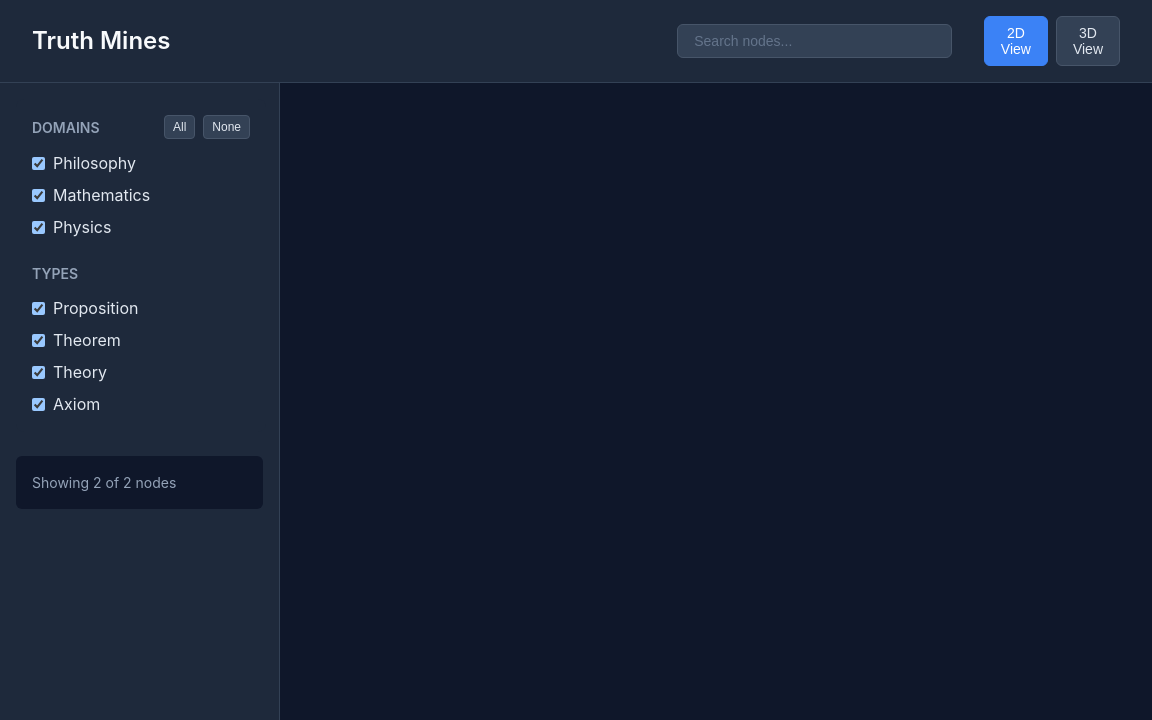
Test case: App › filters nodes by domain
This screenshot has width=1152, height=720.
Expected: the text "Showing 2 of 2 nodes" is shown, [32,474,176,491]
Click the checkbox labelled "philosophy" at (38, 163), box [32,156,45,170]
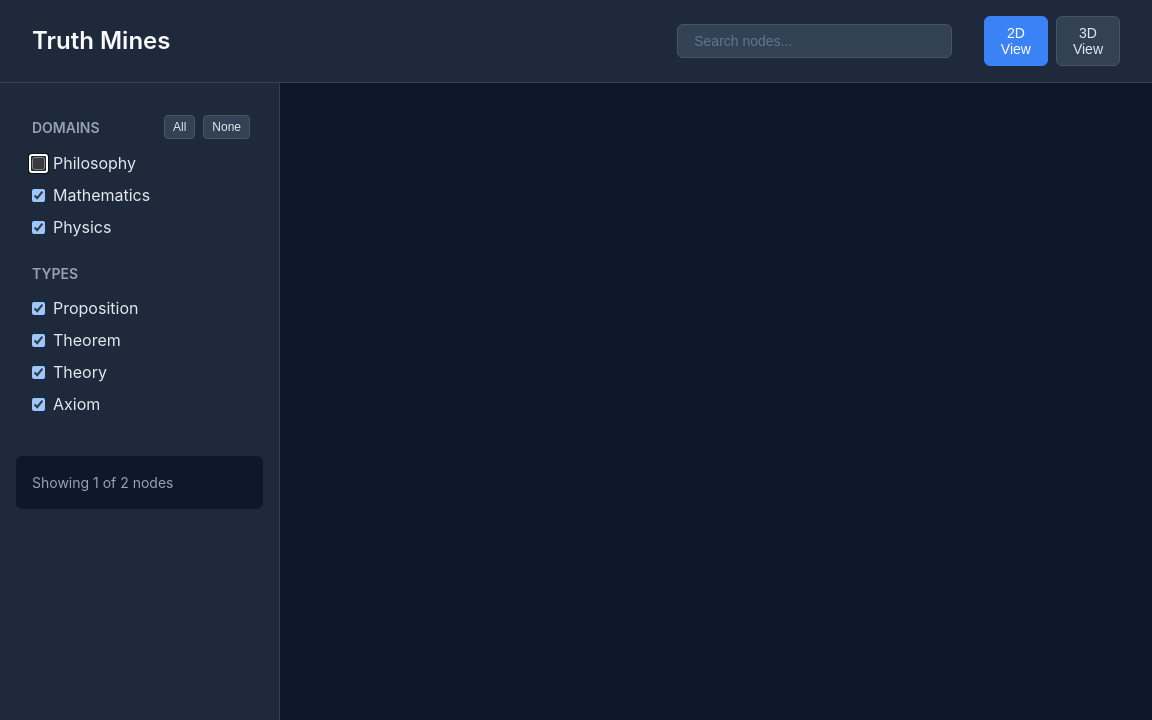
Now the text "Showing 1 of 2 nodes" is shown, box [32,474,174,491]
